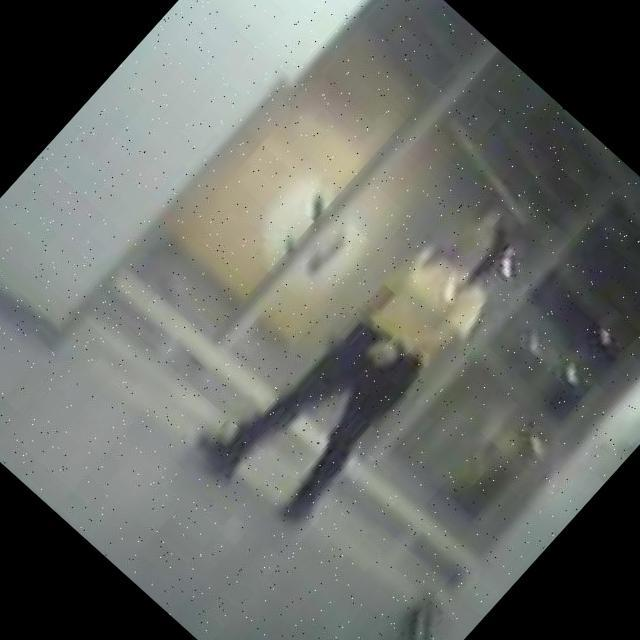person: (183, 160, 550, 545)
